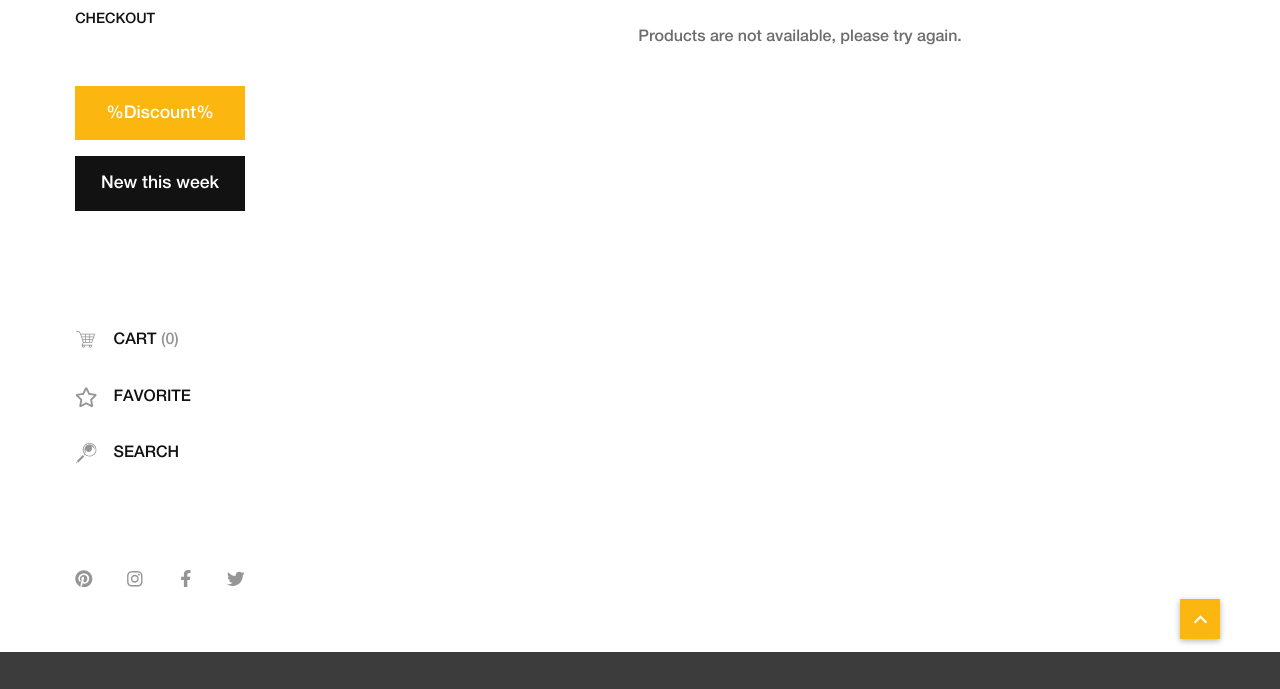
Test: Sidebar spec › Should navigate to the cart page if the cart link is clicked
The width and height of the screenshot is (1280, 689).
(page scrolled)
Hover over the link "cart (0)": point(127, 339) left=75, top=328, right=179, bottom=350
Scroll
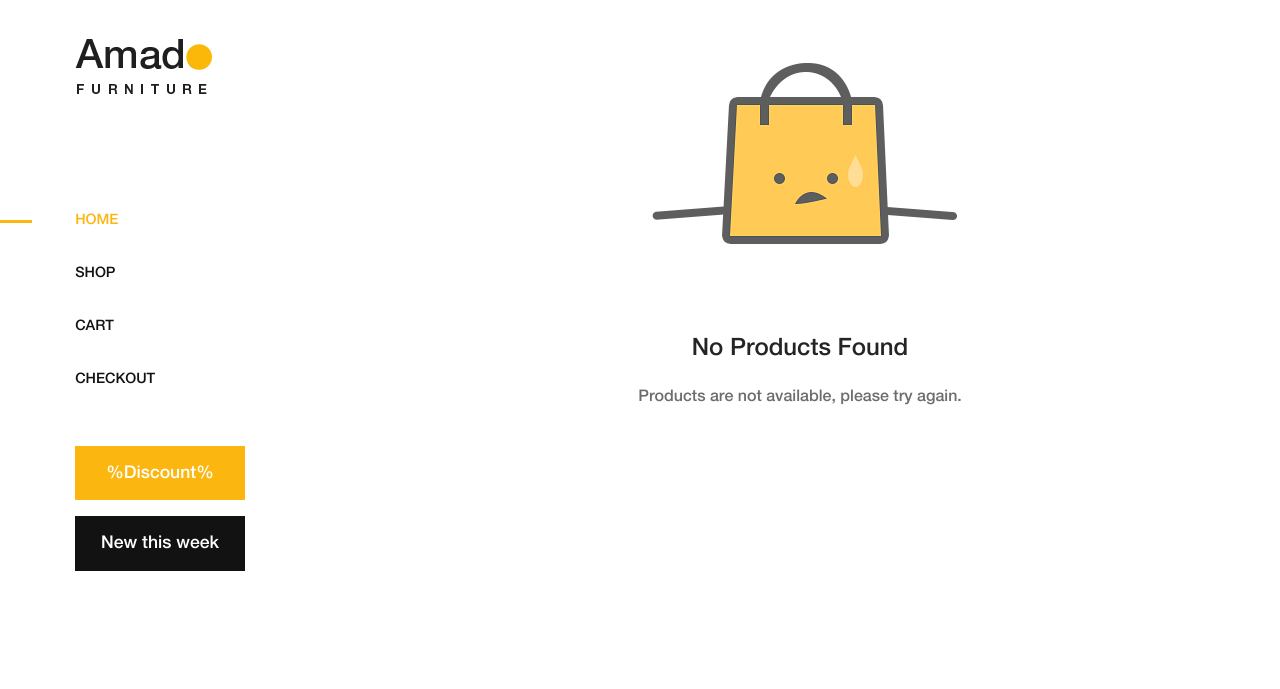
Click the link "cart": point(95, 326) left=75, top=318, right=114, bottom=333
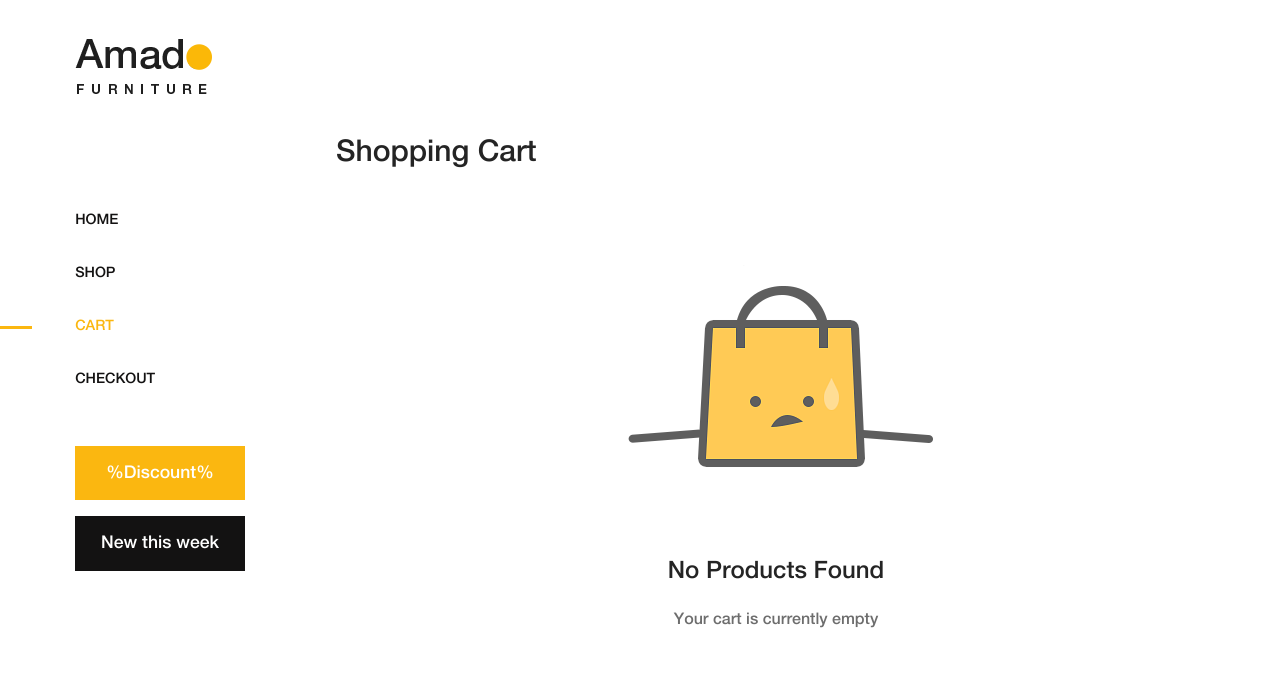
Result: the heading "shopping cart" is shown at left=336, top=137, right=536, bottom=168
